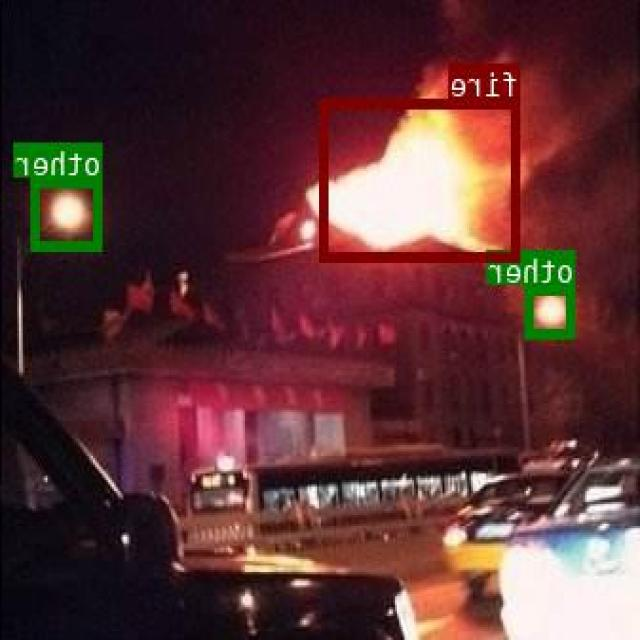fire: (322, 98, 522, 259)
other: (33, 175, 103, 248), (527, 283, 577, 336)
